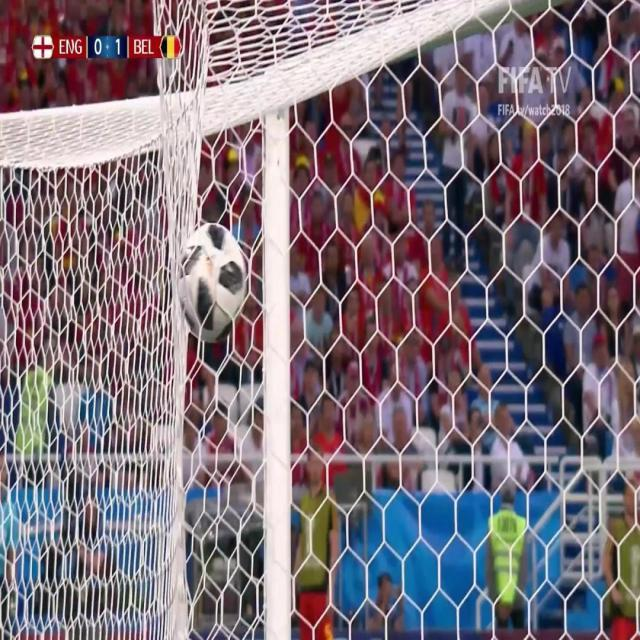ball: (172, 218, 253, 346)
